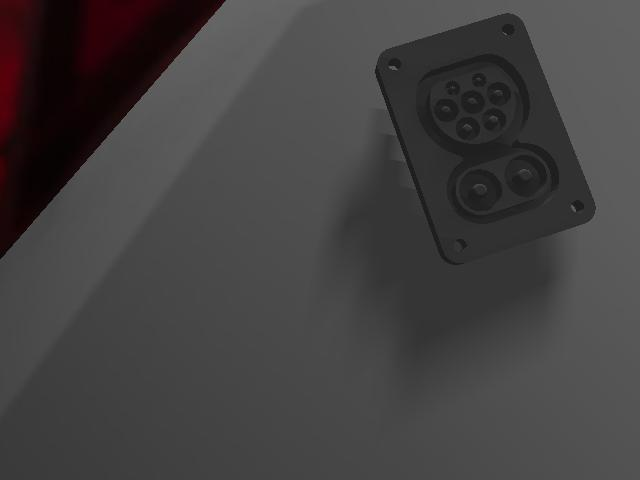EV-socket: (376, 14, 593, 263)
